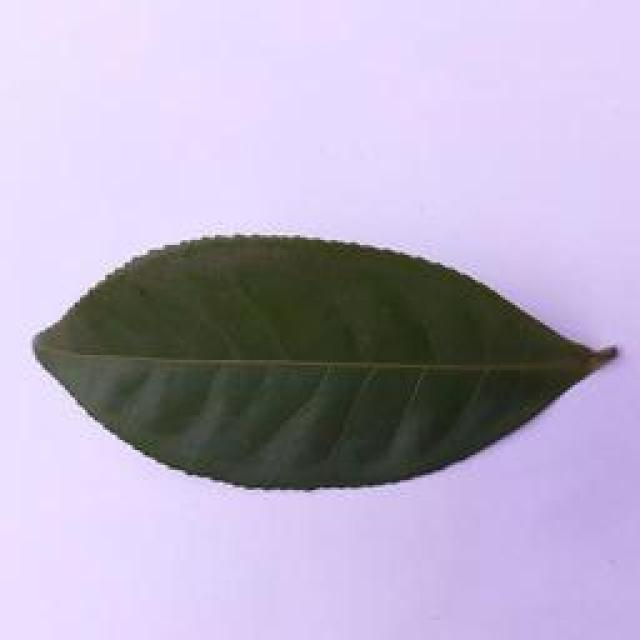Healthy: (14, 235, 630, 513)
